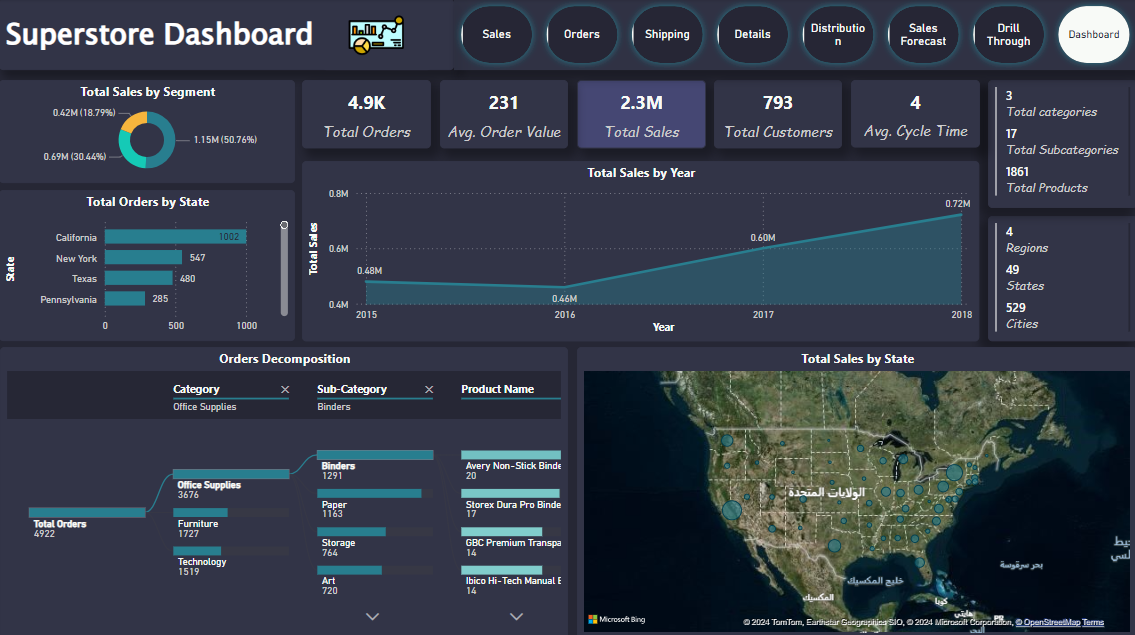

The dashboard page shown, as its layout file describes it:
{"tool":"powerbi","page":{"name":"Distribution","canvas":[1280,720],"ordinal":4},"visuals":[{"type":"pageNavigator","title":"dfsfsd","box":[512,0,768,80],"z":0},{"type":"map","fields":{"Category":["Dim_places.State"],"Size":["Dax Measure.Total Sales"]},"box":[756,88.9,514.1,622.1],"z":1000},{"type":"decompositionTreeVisual","title":"Orders Decomposition","fields":{"Analyze":["Dax Measure.Total Orders"],"ExplainBy":["Dim_Customers.Segment","Dim_Customers.Customer Name"]},"box":[256.5,88.9,487.1,622.1],"z":2000},{"type":"textbox","box":[0,0,511.9,79.9],"z":3000},{"type":"image","box":[380.2,0,79.9,79.9],"z":4000},{"type":"slicer","fields":{"Values":["Dim_date.Year"]},"box":[0,79.9,250,100],"z":4001},{"type":"slicer","fields":{"Values":["Dim_date.Quarter"]},"box":[0,180,250,67],"z":4002},{"type":"slicer","fields":{"Values":["Dim_date.Month Name"]},"box":[0,247.5,249.8,66.4],"z":4003},{"type":"slicer","fields":{"Values":["Dim_Customers.Segment"]},"box":[0,381.4,249.8,67.5],"z":4004},{"type":"slicer","fields":{"Values":["Dim_places.City"]},"box":[0,515.2,249.8,67.5],"z":4005},{"type":"slicer","fields":{"Values":["Dim_date.Day Name"]},"box":[0,313.9,249.8,67.5],"z":4006},{"type":"slicer","fields":{"Values":["Dim_Customers.Customer Name"]},"box":[0,448.9,249.8,66.4],"z":4007},{"type":"slicer","fields":{"Values":["Dim_ShipMode.Ship Mode"]},"box":[0,582.8,249.8,67.5],"z":4008},{"type":"slicer","fields":{"Values":["Dim_ProductDetails.Product Name"]},"box":[0,650.2,249.8,67.5],"z":4009}]}

Visuals, with their boxes in screenshot pixels (x1, y1, x2, y2), scaled from the page's 1280x720 canvas onto the 1135x635 screenshot:
"dfsfsd" pageNavigator: <region>454, 0, 1134, 71</region>
map - Dim_places.State x Dax Measure.Total Sales: <region>670, 78, 1126, 627</region>
"Orders Decomposition" decompositionTreeVisual: <region>227, 78, 659, 627</region>
textbox: <region>0, 0, 454, 70</region>
image: <region>337, 0, 408, 70</region>
slicer - Dim_date.Year: <region>0, 70, 222, 159</region>
slicer - Dim_date.Quarter: <region>0, 159, 222, 218</region>
slicer - Dim_date.Month Name: <region>0, 218, 222, 277</region>
slicer - Dim_Customers.Segment: <region>0, 336, 222, 396</region>
slicer - Dim_places.City: <region>0, 454, 222, 514</region>
slicer - Dim_date.Day Name: <region>0, 277, 222, 336</region>
slicer - Dim_Customers.Customer Name: <region>0, 396, 222, 454</region>
slicer - Dim_ShipMode.Ship Mode: <region>0, 514, 222, 574</region>
slicer - Dim_ProductDetails.Product Name: <region>0, 573, 222, 633</region>
